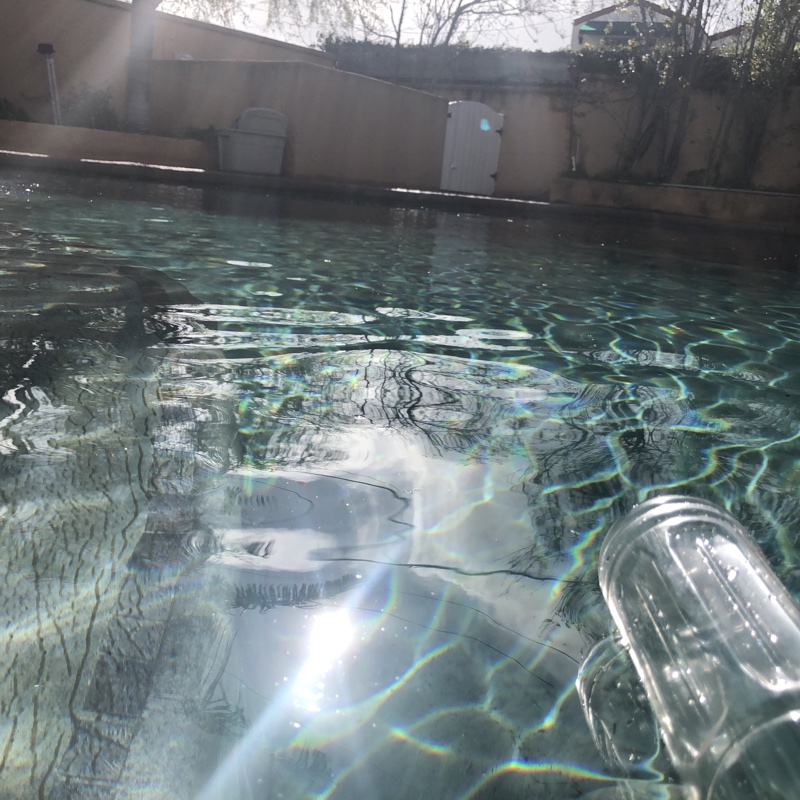Plastic Bottle: (592, 487, 800, 800)
